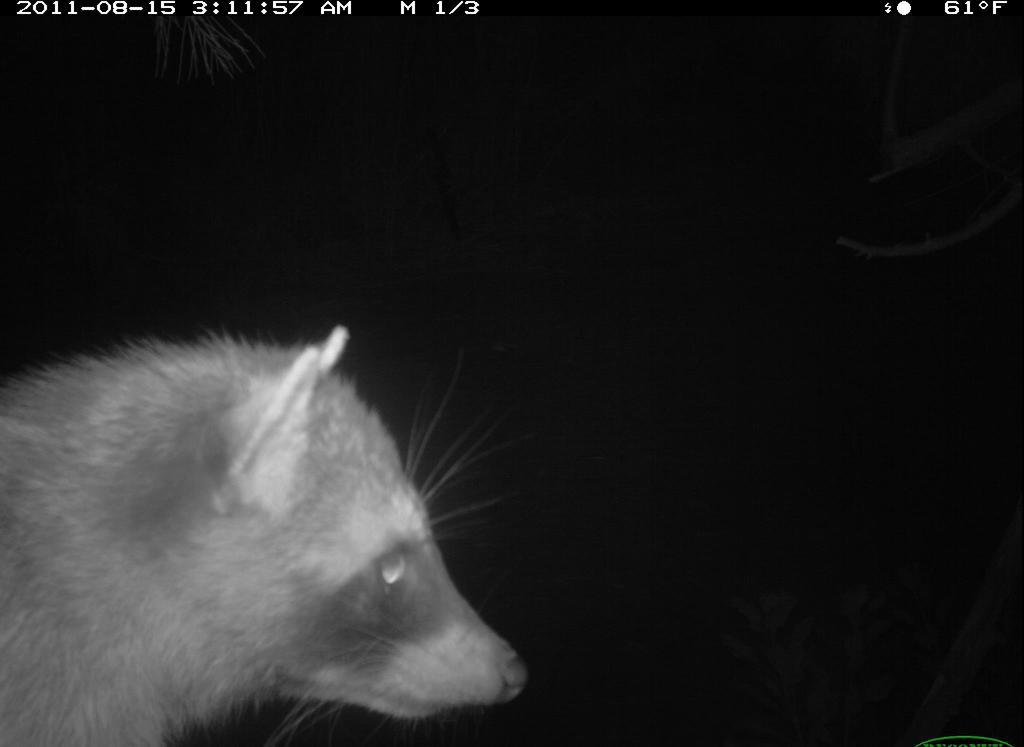raccoon: (7, 312, 553, 742)
